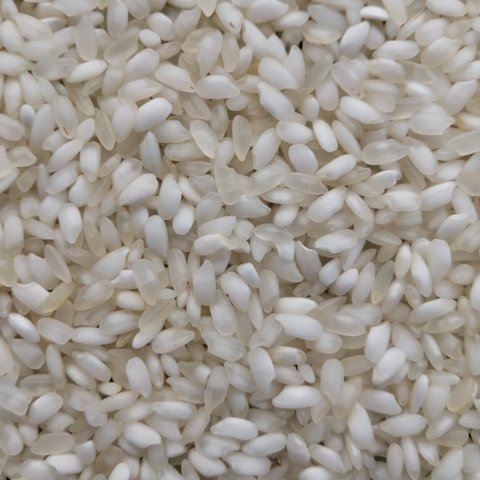idli rice_10: (38, 10, 407, 431)
